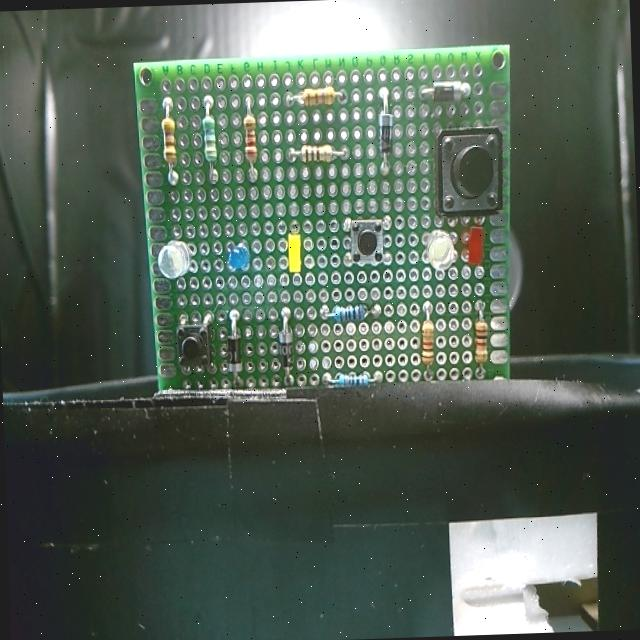diode: (224, 332, 244, 378), (429, 78, 462, 105), (274, 328, 294, 372), (376, 110, 394, 157)
led: (156, 237, 196, 283), (424, 229, 456, 272), (464, 224, 490, 268), (226, 240, 250, 274), (286, 232, 304, 276)
resistor: (418, 316, 437, 370), (198, 114, 218, 165), (474, 315, 492, 370), (242, 112, 260, 166), (160, 116, 179, 167), (328, 300, 368, 322), (299, 85, 336, 108), (300, 140, 334, 164), (332, 370, 372, 387)
switch: (436, 126, 504, 217), (174, 326, 214, 375), (347, 218, 385, 268)
